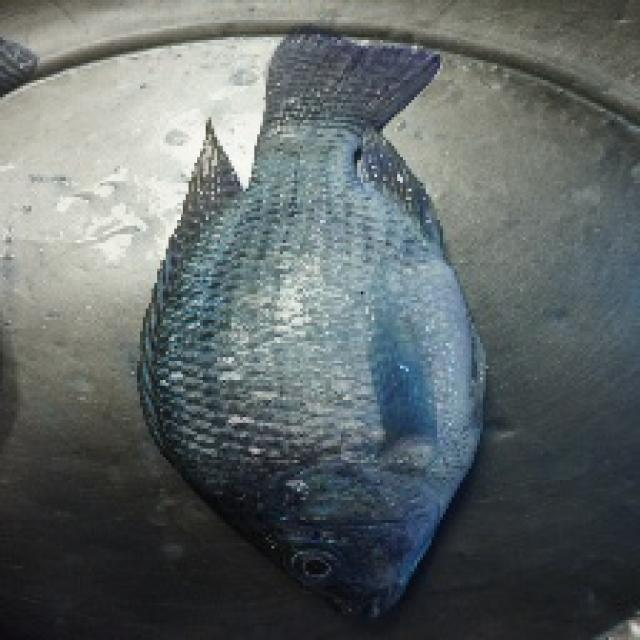Fresh: (187, 129, 497, 624)
